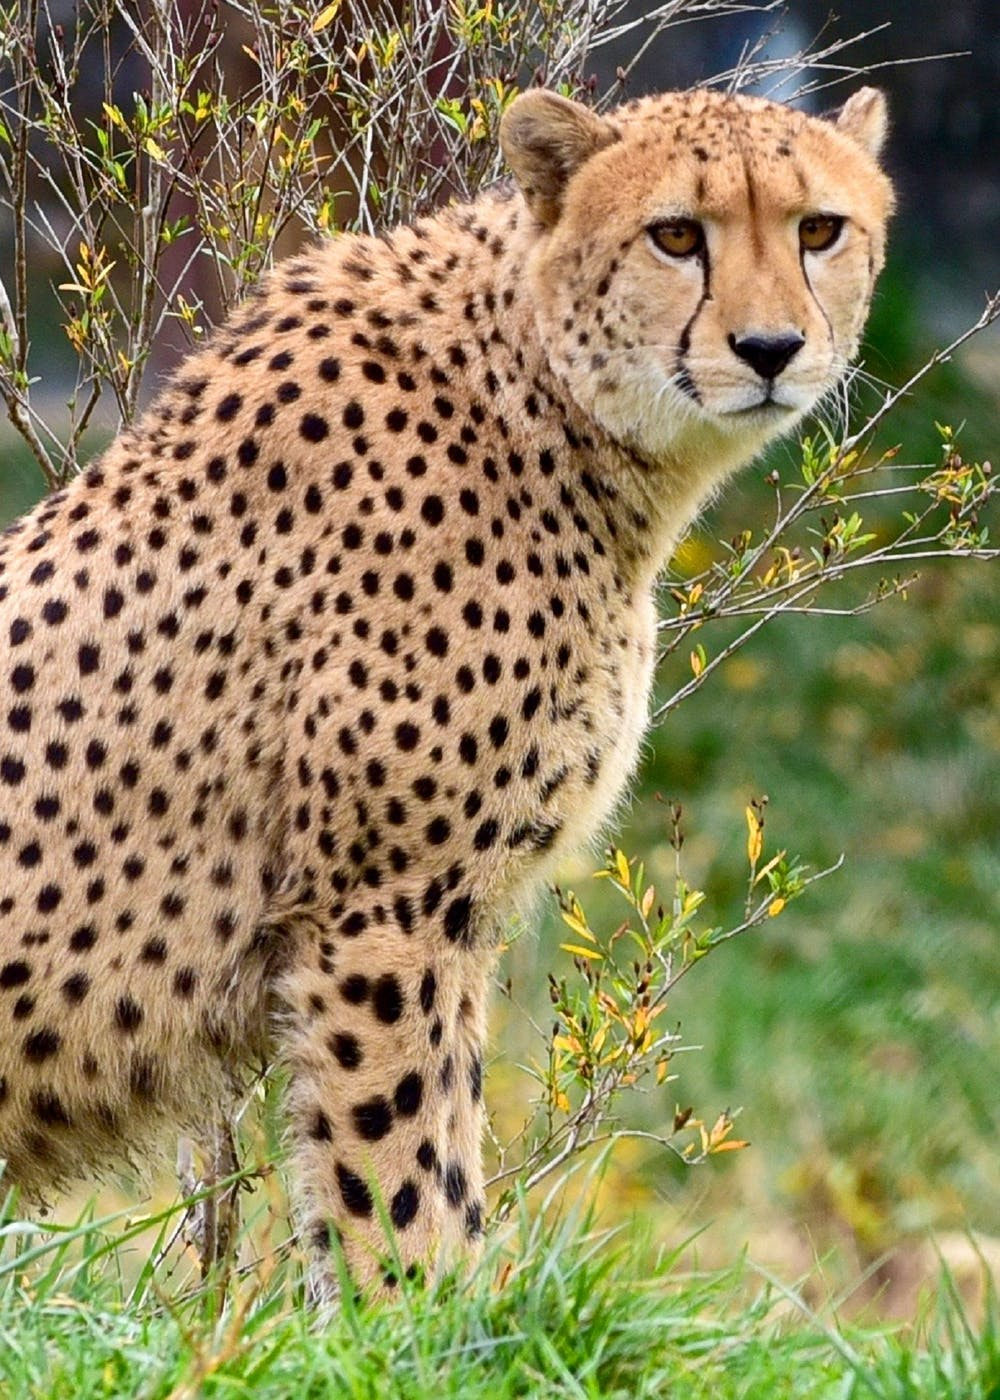cheetah: (472, 60, 921, 496)
